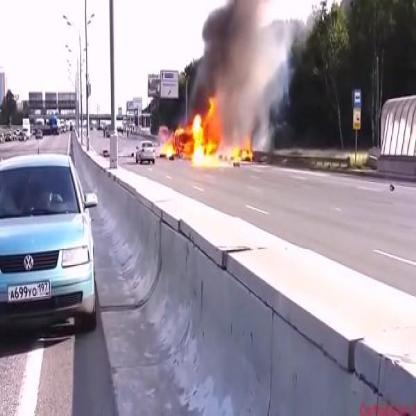fire: (162, 96, 260, 171)
